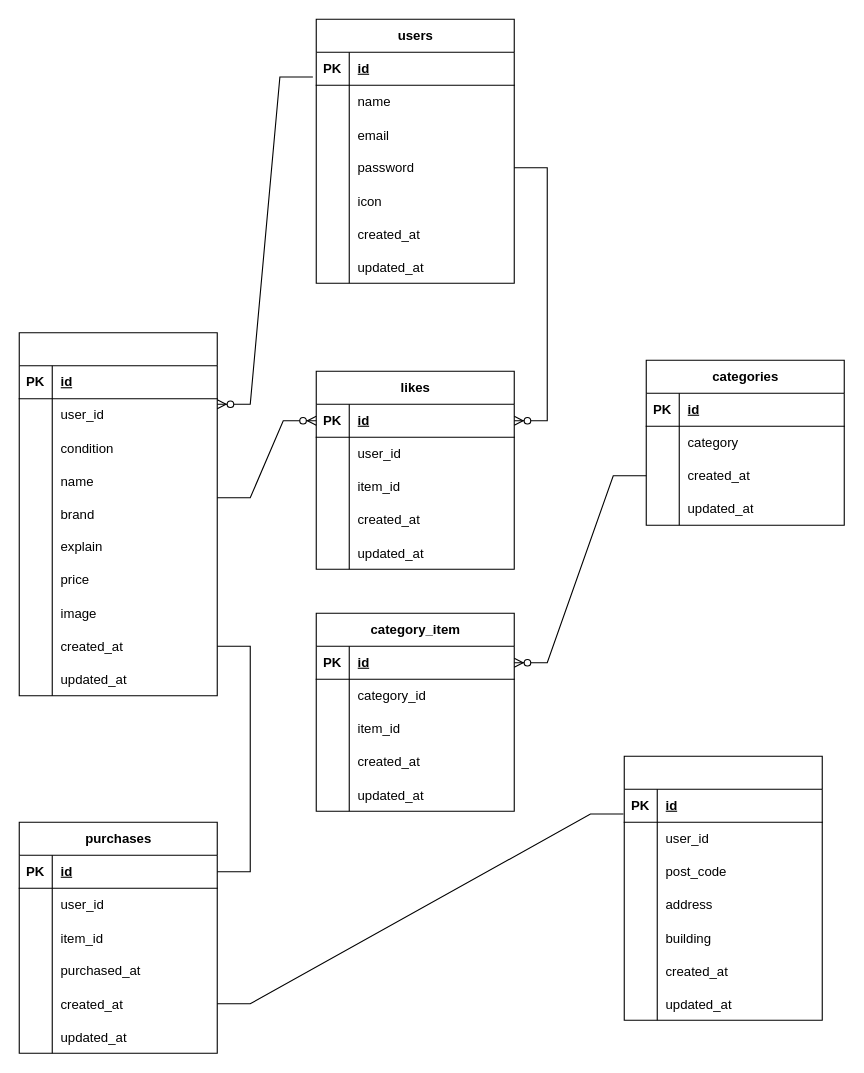
The diagram is 864 pixels wide and 1073 high, and some of its shapes have lost their labels. Here are the shapes that lost their labels. From the top down, the box of each, then its label:
(18, 332, 217, 696): items
(623, 755, 822, 1020): addresses
